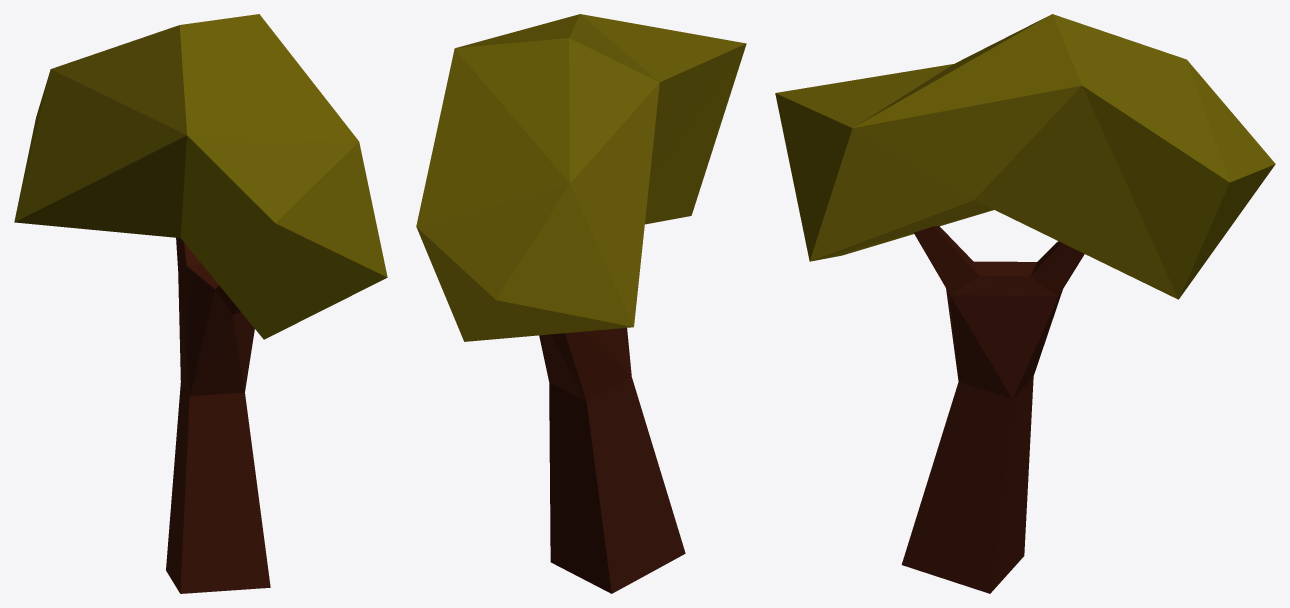
The model's file is Oak1.fbx.glb.
3 renders of one model, left to right at view 1: azimuth 30°, elevation 25°; view 2: azimuth 150°, elevation 25°; view 3: azimuth 270°, elevation 25°, orthographic. The views are drawn at different scales.
Visible parts, largest first — view 1: Oak1; view 2: Oak1; view 3: Oak1.
Boxes of the visible parts, x1,y1,x2,y2 form: Oak1: (14, 14, 387, 593); Oak1: (416, 14, 746, 593); Oak1: (775, 14, 1275, 593).
Bounding box in the file's own units: 40.22 × 95.18 × 77.68.
